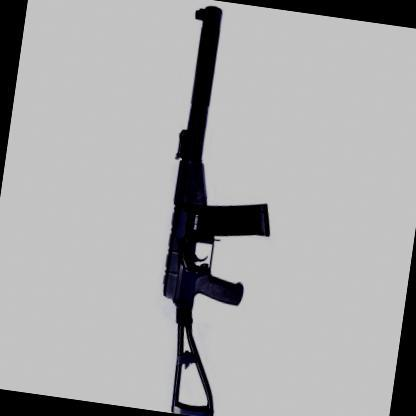rifle: (122, 0, 315, 416)
